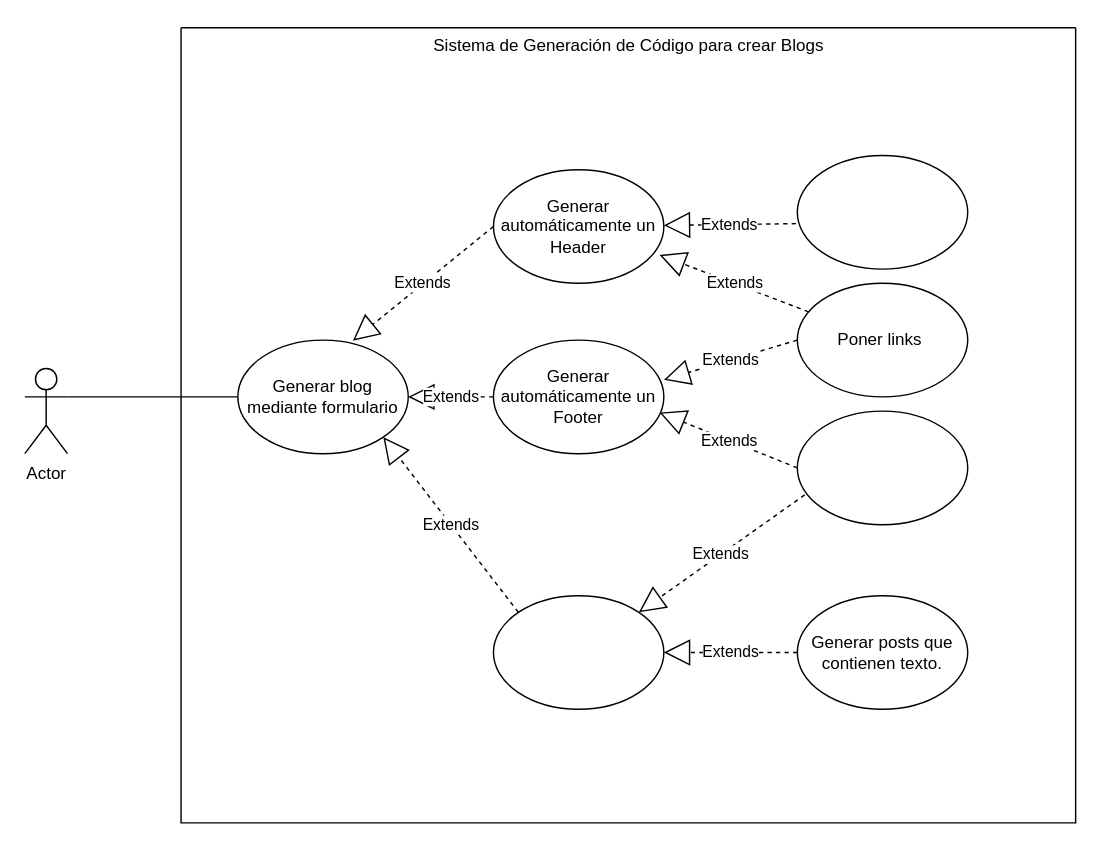
The diagram is 1101 pixels wide and 848 high, and some of its shapes have lost their labels. The shapes that lost their labels are listed below. From the top down, each one's centre as x and y in pixels, then its label:
point 882,211: Generar menú
point 882,467: Poner imagen
point 578,651: Generar automáticamente una Columna Principal
